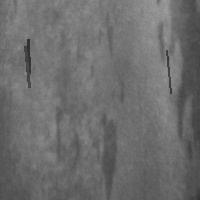inclusion: (156, 1, 198, 163), (51, 54, 89, 177), (92, 109, 119, 195), (96, 10, 117, 58), (112, 75, 126, 106), (164, 48, 172, 95), (23, 44, 31, 89), (26, 37, 31, 75)
